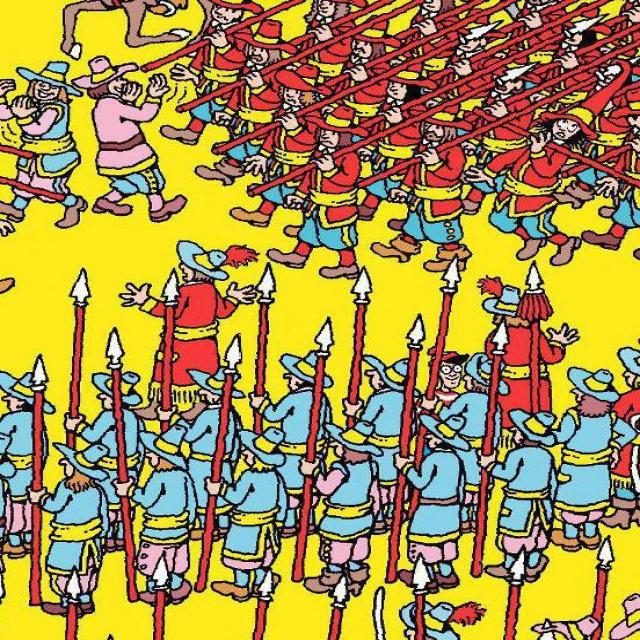waldo: (426, 346, 468, 390)
